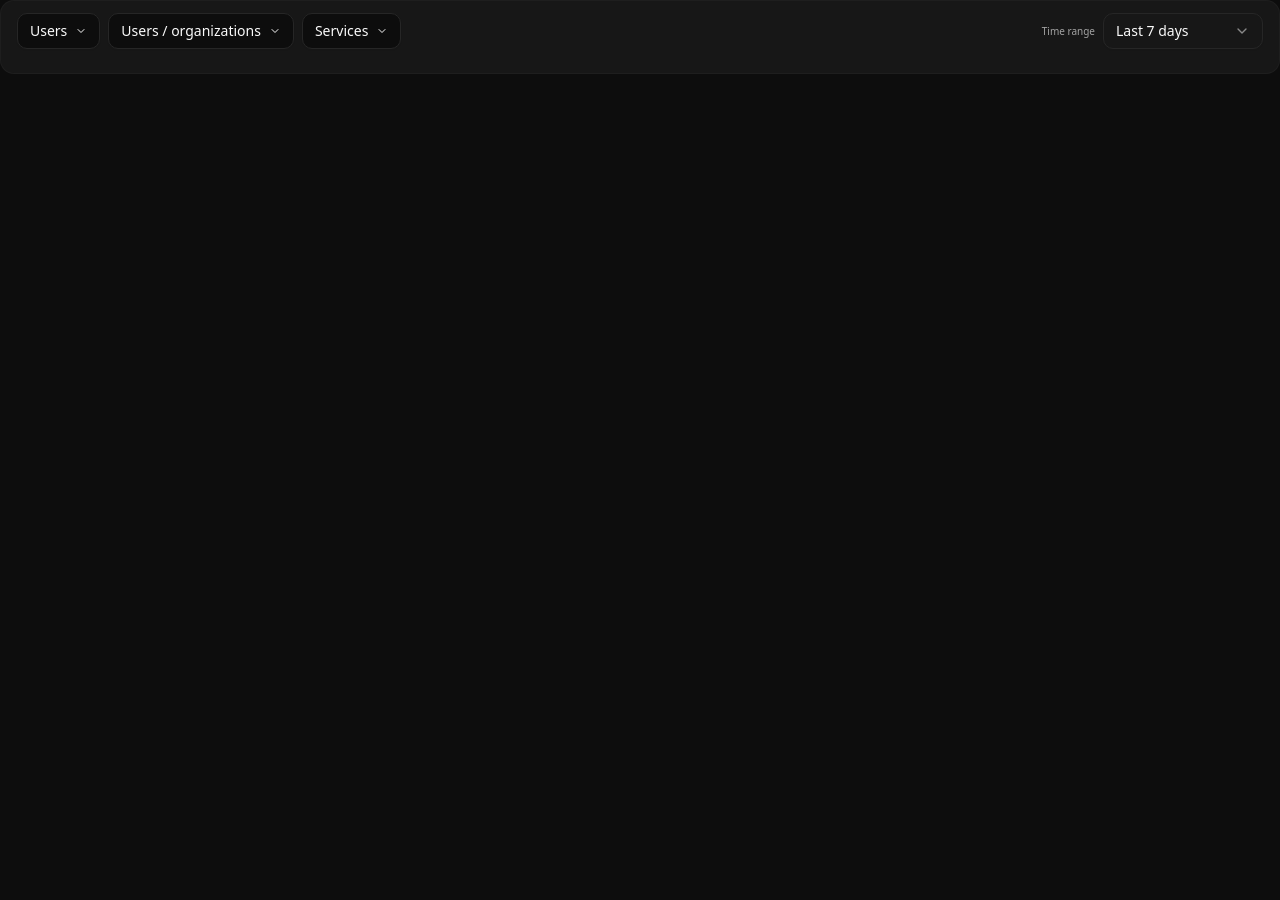
Test: admin usage FilterBar picker › loads and caches every dropdown before any is opened
Click the button with aria-label "Filter services" at (352, 31), box [302,13,401,49]
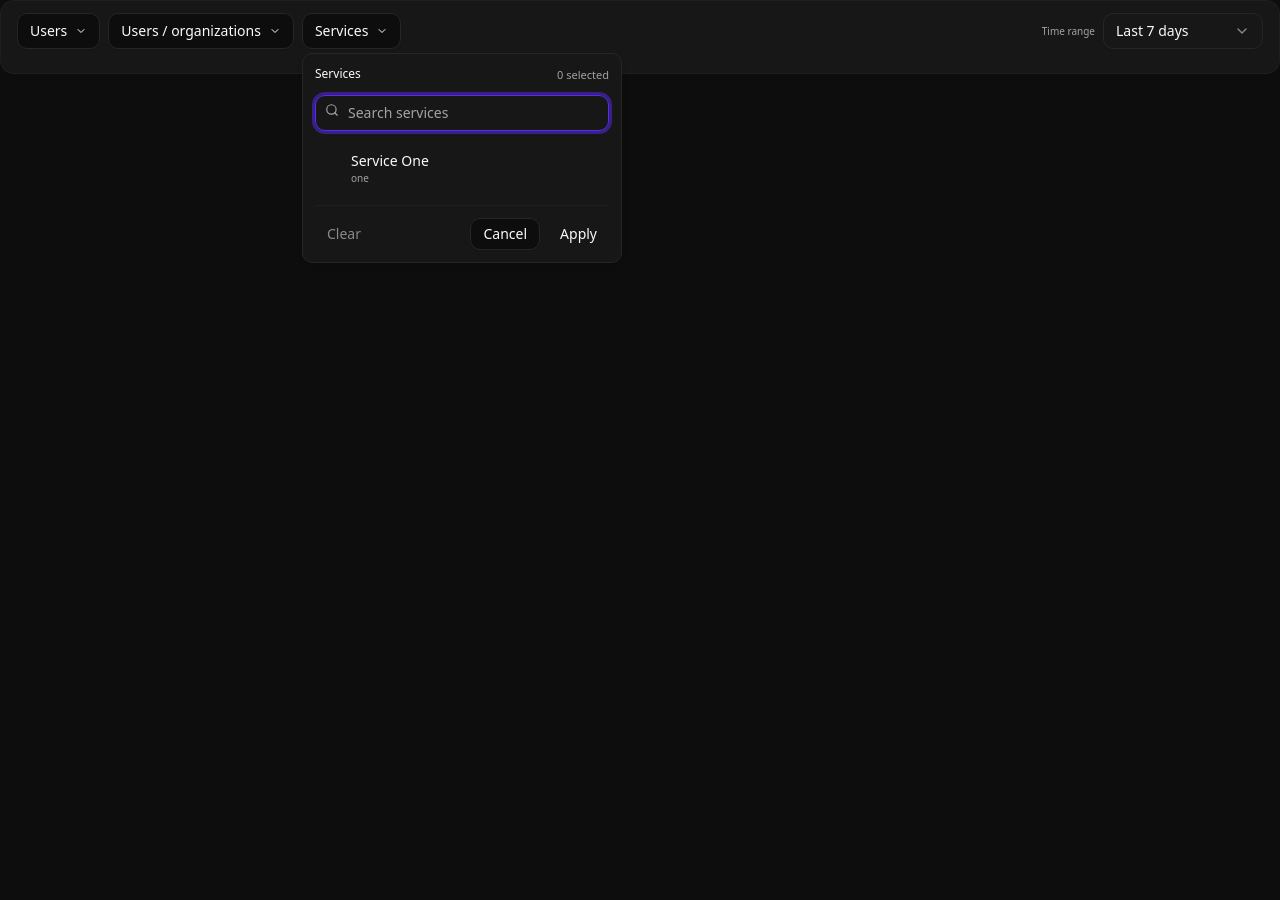
Result: the button "Service One one" is shown at [315,143,609,193]
